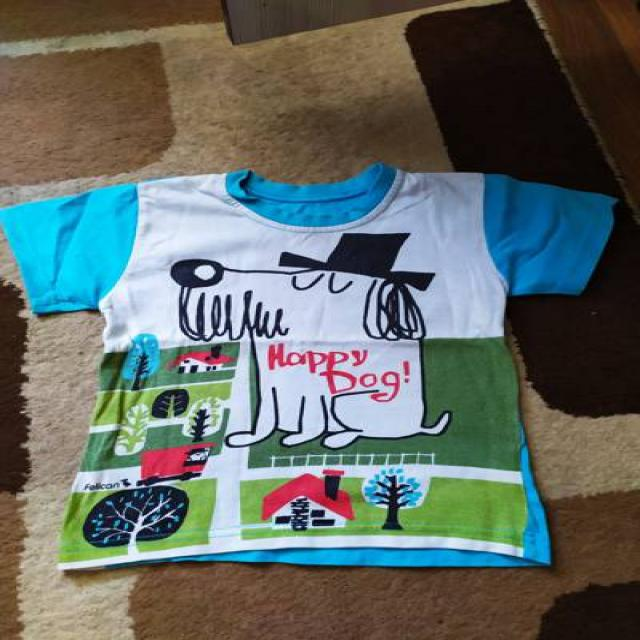Clothes -Biodegradable-: (1, 160, 617, 573)
